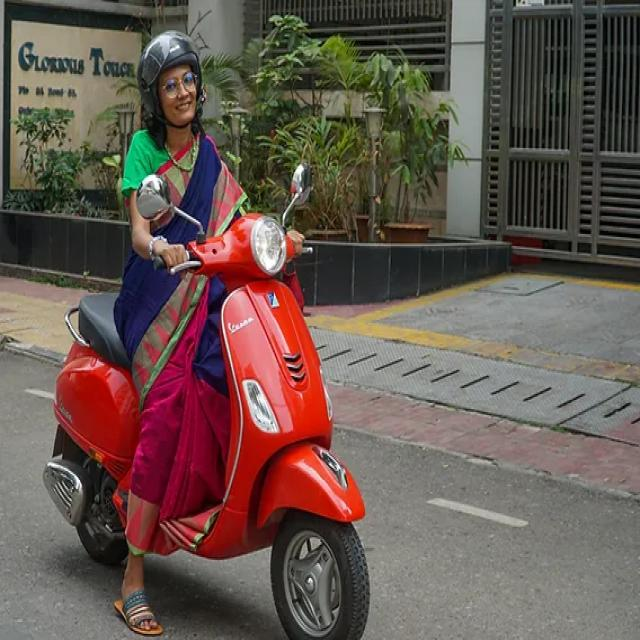bike: (45, 170, 374, 631)
